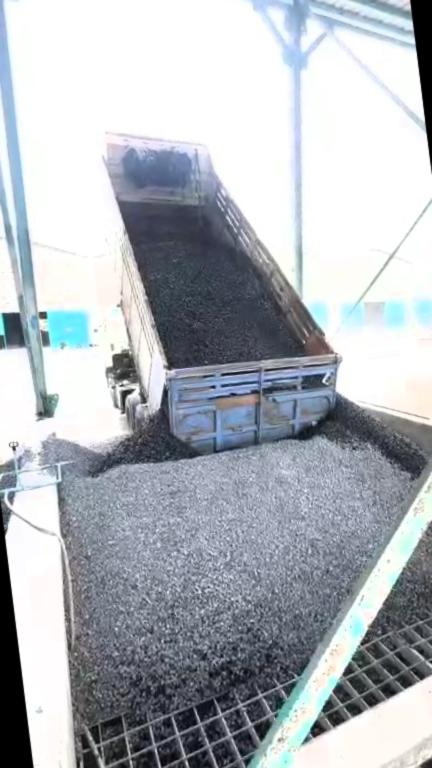gravel: (40, 400, 426, 722), (129, 207, 300, 366), (375, 477, 432, 629)
sand: (381, 367, 432, 425)
